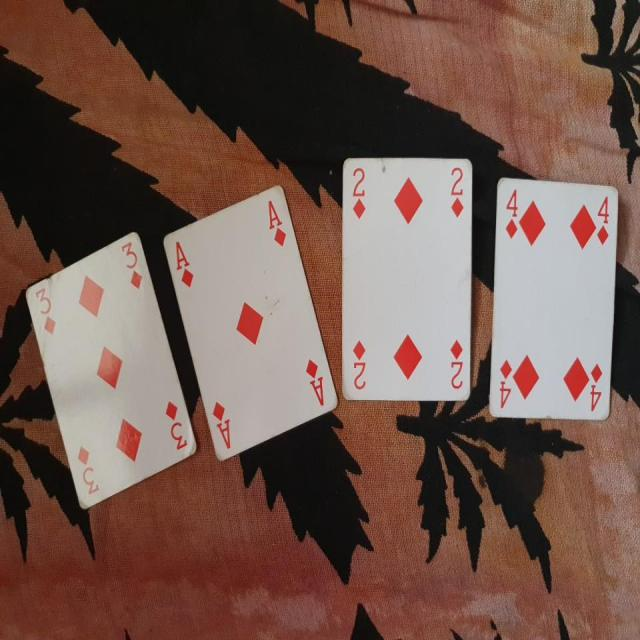2 Diamonds: (338, 148, 478, 404)
3 Diamonds: (20, 230, 202, 515)
4 Diamonds: (487, 175, 622, 422)
A Diamonds: (158, 179, 344, 465)
